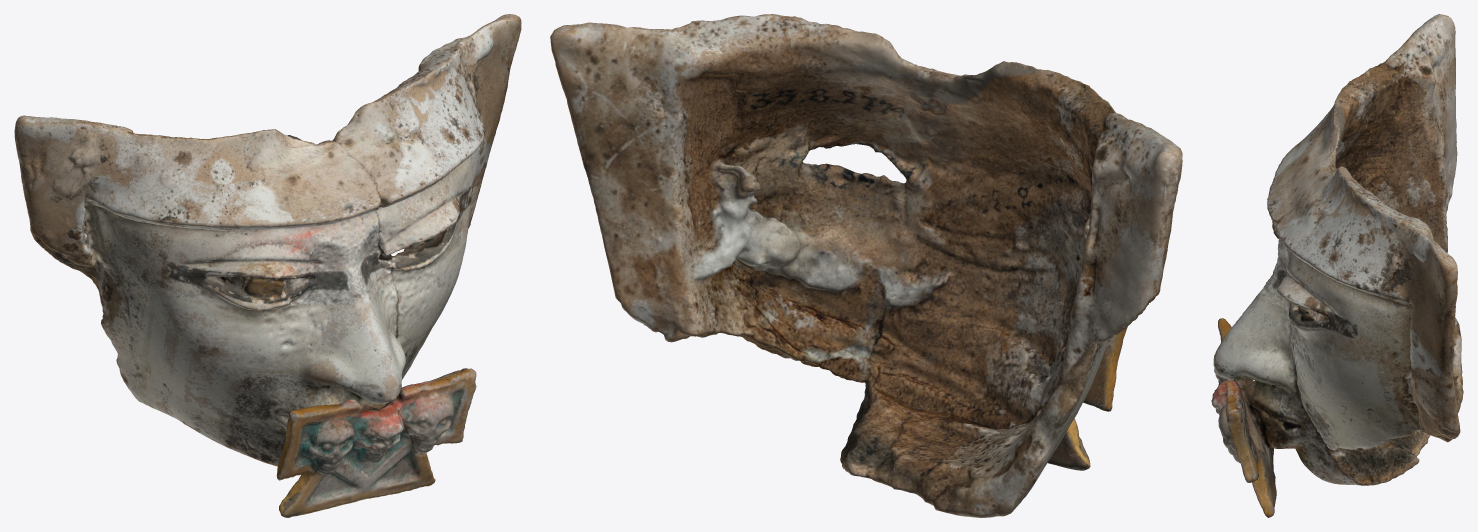
File: maskskärva-transformed.glb
3 renders of one model, left to right at view 1: azimuth 30°, elevation 25°; view 2: azimuth 150°, elevation 25°; view 3: azimuth 270°, elevation 25°, orthographic. The views are drawn at different scales.
Visible parts, largest first — view 1: 1935.08.2774 (maskskärva); view 2: 1935.08.2774 (maskskärva); view 3: 1935.08.2774 (maskskärva).
Part boxes in pixels (x1,y1,x2,y2): 1935.08.2774 (maskskärva): (14, 14, 521, 517); 1935.08.2774 (maskskärva): (550, 14, 1182, 517); 1935.08.2774 (maskskärva): (1211, 14, 1463, 517).
Bounding box in the file's own units: 0.1436 × 0.1024 × 0.0654.
1 material, 1 textured.
